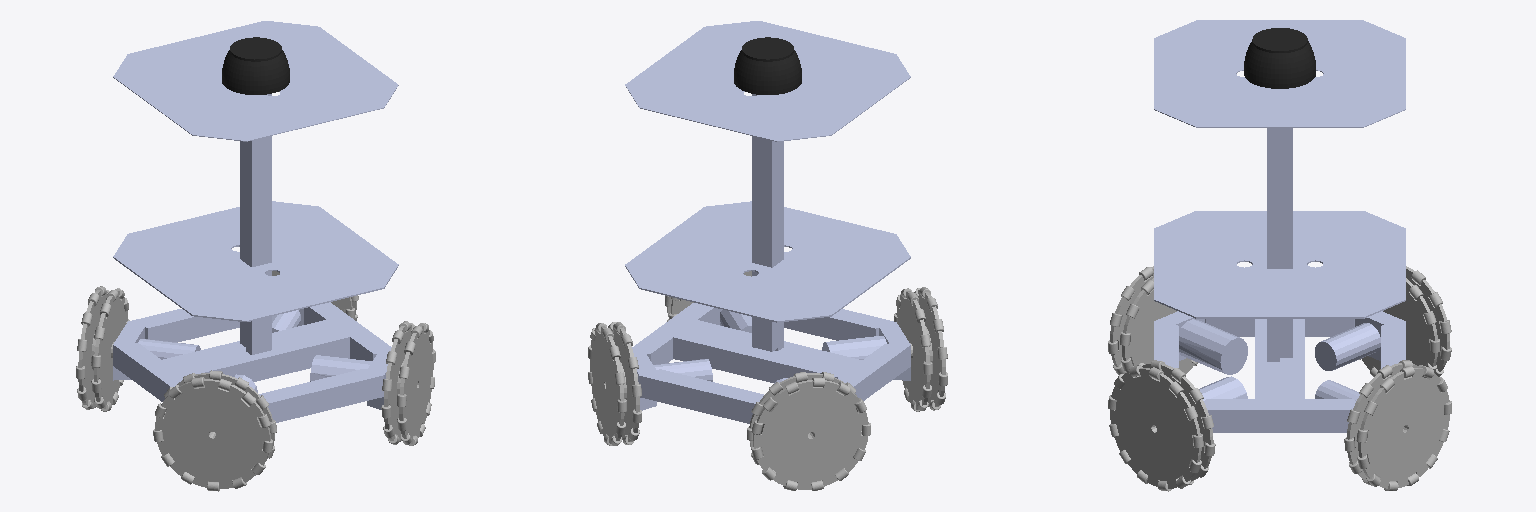
robot.urdf — URDF:

<!-- This URDF was automatically created by SolidWorks to URDF Exporter! Originally created by Stephen Brawner (brawner@gmail.com) 
     Commit Version: 1.6.0-4-g7f85cfe  Build Version: 1.6.7995.38578
     For more information, please see http://wiki.ros.org/sw_urdf_exporter -->
<robot
  name="URDF">
  <link
    name="base_link">
    <inertial>
      <origin
        xyz="-8.57191768954824E-10 -0.000317402351265947 0.00624310442116382"
        rpy="0 0 0" />
      <mass
        value="0.1" />
      <inertia
        ixx="3.21390607883172E-07"
        ixy="9.7836623014883E-15"
        ixz="-1.04072352403533E-14"
        iyy="4.23855792975122E-07"
        iyz="-5.87798168447698E-08"
        izz="2.61421342170984E-07" />
    </inertial>
    <visual>
      <origin
        xyz="0 0 0"
        rpy="0 0 0" />
      <geometry>
        <mesh
          filename="package://agv_sim/meshes/base_link.STL" />
      </geometry>
      <material
        name="">
        <color
          rgba="0.792156862745098 0.819607843137255 0.933333333333333 1" />
      </material>
    </visual>
    <collision>
      <origin
        xyz="0 0 0"
        rpy="0 0 0" />
      <geometry>
        <mesh
          filename="package://agv_sim/meshes/base_link.STL" />
      </geometry>
    </collision>
  </link>
  <link
    name="thanxe_Link">
    <inertial>
      <origin
        xyz="-1.34173948340699E-09 -0.00471160202617647 0.00913027489544721"
        rpy="0 0 0" />
      <mass
        value="0.05" />
      <inertia
        ixx="2.9987700128236E-07"
        ixy="9.78366230720851E-15"
        ixz="-1.04072352312484E-14"
        iyy="3.43993310638055E-07"
        iyz="-5.95274971269669E-08"
        izz="1.62203888631105E-07" />
    </inertial>
    <visual>
      <origin
        xyz="0 0 0"
        rpy="0 0 0" />
      <geometry>
        <mesh
          filename="package://agv_sim/meshes/thanxe_Link.STL" />
      </geometry>
      <material
        name="">
        <color
          rgba="0.792156862745098 0.819607843137255 0.933333333333333 1" />
      </material>
    </visual>
    <collision>
      <origin
        xyz="0 0 0"
        rpy="0 0 0" />
      <geometry>
        <mesh
          filename="package://agv_sim/meshes/thanxe_Link.STL" />
      </geometry>
    </collision>
  </link>
  <joint
    name="thanxe_joint"
    type="fixed">
    <origin
      xyz="0 0 0"
      rpy="0 0 0" />
    <parent
      link="base_link" />
    <child
      link="thanxe_Link" />
    <axis
      xyz="0 0 0" />
  </joint>
  <link
    name="dexe_Link">
    <inertial>
      <origin
        xyz="-6.93889390390723E-18 0.00745618052720307 0.00113553976172041"
        rpy="0 0 0" />
      <mass
        value="0.03" />
      <inertia
        ixx="2.15136066008119E-08"
        ixy="-4.9436306316123E-25"
        ixz="4.83483938759972E-25"
        iyy="7.98624823370676E-08"
        iyz="7.47680282197207E-10"
        izz="9.92174535398787E-08" />
    </inertial>
    <visual>
      <origin
        xyz="0 0 0"
        rpy="0 0 0" />
      <geometry>
        <mesh
          filename="package://agv_sim/meshes/dexe_Link.STL" />
      </geometry>
      <material
        name="">
        <color
          rgba="0.792156862745098 0.819607843137255 0.933333333333333 1" />
      </material>
    </visual>
    <collision>
      <origin
        xyz="0 0 0"
        rpy="0 0 0" />
      <geometry>
        <mesh
          filename="package://agv_sim/meshes/dexe_Link.STL" />
      </geometry>
    </collision>
  </link>
  <joint
    name="dexe_joint"
    type="fixed">
    <origin
      xyz="0 0 0"
      rpy="0 0 0" />
    <parent
      link="base_link" />
    <child
      link="dexe_Link" />
    <axis
      xyz="0 0 0" />
  </joint>
  <link
    name="banhxe1_Link">
    <inertial>
      <origin
        xyz="0.000871932450713722 -0.000871932450713681 6.93889390390723E-18"
        rpy="0 0 0" />
      <mass
        value="0.000243965830582787" />
      <inertia
        ixx="3.30833181677862E-09"
        ixy="-9.82694901086297E-10"
        ixz="-1.50741852656873E-25"
        iyy="3.30833181677862E-09"
        iyz="2.4548909608371E-24"
        izz="2.32563691569232E-09" />
    </inertial>
    <visual>
      <origin
        xyz="0 0 0"
        rpy="0 0 0" />
      <geometry>
        <mesh
          filename="package://agv_sim/meshes/banhxe1_Link.STL" />
      </geometry>
      <material
        name="">
        <color
          rgba="0.752941176470588 0.752941176470588 0.752941176470588 1" />
      </material>
    </visual>
    <collision>
      <origin
        xyz="0 0 0"
        rpy="0 0 0" />
      <geometry>
        <mesh
          filename="package://agv_sim/meshes/banhxe1_Link.STL" />
      </geometry>
    </collision>
  </link>
  <joint
    name="banhxe1_joint"
    type="continuous">
    <origin
      xyz="0.0132071067811865 -0.0132071067811866 0.00049999999999998"
      rpy="0 0 0" />
    <parent
      link="base_link" />
    <child
      link="banhxe1_Link" />
    <axis
      xyz="0.707106781186548 -0.707106781186547 0" />
  </joint>
  <link
    name="banhxe2_Link">
    <inertial>
      <origin
        xyz="-0.000895834502252661 -0.000895834502252687 -3.46944695195361E-17"
        rpy="0 0 0" />
      <mass
        value="0.000243965830582788" />
      <inertia
        ixx="3.30833181677862E-09"
        ixy="9.82694901086296E-10"
        ixz="9.96137263511454E-25"
        iyy="3.30833181677861E-09"
        iyz="-7.86518777193411E-25"
        izz="2.32563691569232E-09" />
    </inertial>
    <visual>
      <origin
        xyz="0 0 0"
        rpy="0 0 0" />
      <geometry>
        <mesh
          filename="package://agv_sim/meshes/banhxe2_Link.STL" />
      </geometry>
      <material
        name="">
        <color
          rgba="0.752941176470588 0.752941176470588 0.752941176470588 1" />
      </material>
    </visual>
    <collision>
      <origin
        xyz="0 0 0"
        rpy="0 0 0" />
      <geometry>
        <mesh
          filename="package://agv_sim/meshes/banhxe2_Link.STL" />
      </geometry>
    </collision>
  </link>
  <joint
    name="banhxe2_joint"
    type="continuous">
    <origin
      xyz="0.0149748737341529 0.0149748737341529 0.000500000000000021"
      rpy="0 0 0" />
    <parent
      link="base_link" />
    <child
      link="banhxe2_Link" />
    <axis
      xyz="0.707106781186546 0.707106781186549 0" />
  </joint>
  <link
    name="banhxe3_Link">
    <inertial>
      <origin
        xyz="0.000895834502252606 0.00089583450225272 -4.16333634234434E-17"
        rpy="0 0 0" />
      <mass
        value="0.000243965830582787" />
      <inertia
        ixx="3.30833181677861E-09"
        ixy="9.82694901086296E-10"
        ixz="-4.28868964288834E-25"
        iyy="3.30833181677862E-09"
        iyz="3.86888942356593E-25"
        izz="2.32563691569232E-09" />
    </inertial>
    <visual>
      <origin
        xyz="0 0 0"
        rpy="0 0 0" />
      <geometry>
        <mesh
          filename="package://agv_sim/meshes/banhxe3_Link.STL" />
      </geometry>
      <material
        name="">
        <color
          rgba="0.752941176470588 0.752941176470588 0.752941176470588 1" />
      </material>
    </visual>
    <collision>
      <origin
        xyz="0 0 0"
        rpy="0 0 0" />
      <geometry>
        <mesh
          filename="package://agv_sim/meshes/banhxe3_Link.STL" />
      </geometry>
    </collision>
  </link>
  <joint
    name="banhxe3_joint"
    type="continuous">
    <origin
      xyz="-0.0149748737341529 -0.0149748737341529 0.000500000000000035"
      rpy="0 0 0" />
    <parent
      link="base_link" />
    <child
      link="banhxe3_Link" />
    <axis
      xyz="0.707106781186547 0.707106781186548 0" />
  </joint>
  <link
    name="banhxe4_Link">
    <inertial>
      <origin
        xyz="0.000895834502252592 -0.000895834502252731 -7.63278329429795E-17"
        rpy="0 0 0" />
      <mass
        value="0.000243965830582787" />
      <inertia
        ixx="3.30833181677861E-09"
        ixy="-9.82694901086294E-10"
        ixz="-7.03610284915588E-25"
        iyy="3.30833181677862E-09"
        iyz="3.41505774479228E-24"
        izz="2.32563691569232E-09" />
    </inertial>
    <visual>
      <origin
        xyz="0 0 0"
        rpy="0 0 0" />
      <geometry>
        <mesh
          filename="package://agv_sim/meshes/banhxe4_Link.STL" />
      </geometry>
      <material
        name="">
        <color
          rgba="0.752941176470588 0.752941176470588 0.752941176470588 1" />
      </material>
    </visual>
    <collision>
      <origin
        xyz="0 0 0"
        rpy="0 0 0" />
      <geometry>
        <mesh
          filename="package://agv_sim/meshes/banhxe4_Link.STL" />
      </geometry>
    </collision>
  </link>
  <joint
    name="banhxe4_joint"
    type="continuous">
    <origin
      xyz="-0.0149748737341529 0.014974873734153 0.000500000000000084"
      rpy="0 0 0" />
    <parent
      link="base_link" />
    <child
      link="banhxe4_Link" />
    <axis
      xyz="-0.707106781186547 0.707106781186548 0" />
  </joint>
  <link
    name="lidar_link">
    <inertial>
      <origin
        xyz="0 0 0"
        rpy="0 0 0" />
      <mass
        value="0.001" />
      <inertia
        ixx="1E-08"
        ixy="0"
        ixz="0"
        iyy="1E-08"
        iyz="0"
        izz="1E-08" />
    </inertial>
    <visual>
      <origin
        xyz="0 0 0"
        rpy="0 0 0" />
      <geometry>
        <mesh
          filename="package://agv_sim/meshes/lidartruocl.STL" scale="0.1 0.1 0.1" />
      </geometry>
      <material
        name="">
        <color
          rgba="0.2 0.2 0.2 1" />
      </material>
    </visual>
    <collision>
      <origin
        xyz="0 0 0"
        rpy="0 0 0" />
      <geometry>
        <mesh
          filename="package://agv_sim/meshes/lidartruocl.STL" scale="0.1 0.1 0.1" />
      </geometry>
    </collision>
  </link>
  <joint
    name="lidar_joint"
    type="fixed">
    <origin
      xyz="0 0 0.0402"
      rpy="0 0 0" />
    <parent
      link="base_link" />
    <child
      link="lidar_link" />
    <axis
      xyz="0 0 1" />
  </joint>
  <gazebo reference="lidar_link">
    <sensor type="ray" name="lidar_sensor">
      <pose>0 0 0 0 0 0</pose>
      <visualize>true</visualize>
      <update_rate>10</update_rate>
      <ray>
        <scan>
          <horizontal>
            <samples>360</samples>
            <resolution>1</resolution>
            <min_angle>-3.14159</min_angle>
            <max_angle>3.14159</max_angle>
          </horizontal>
        </scan>
        <range>
          <min>0.05</min>
          <max>1.5</max>
          <resolution>0.01</resolution>
        </range>
        <noise>
          <type>gaussian</type>
          <mean>0.0</mean>
          <stddev>0.01</stddev>
        </noise>
      </ray>
      <plugin name="gazebo_ros_ray_sensor" filename="libgazebo_ros_ray_sensor.so">
        <ros>
          <remapping>~/out:=scan</remapping>
        </ros>
        <output_type>sensor_msgs/LaserScan</output_type>
        <frame_name>lidar_link</frame_name>
      </plugin>
    </sensor>
  </gazebo>
  <gazebo>
    <plugin name="gazebo_ros_planar_move" filename="libgazebo_ros_planar_move.so">
      <ros>
        <remapping>cmd_vel:=cmd_vel</remapping>
        <remapping>odom:=odom</remapping>
      </ros>
      <update_rate>100.0</update_rate>
      <publish_rate>10.0</publish_rate>
      <publish_odom>true</publish_odom>
      <publish_odom_tf>true</publish_odom_tf>
      <odometry_frame>odom</odometry_frame>
      <robot_base_frame>base_link</robot_base_frame>
      <covariance_x>0.0001</covariance_x>
      <covariance_y>0.0001</covariance_y>
      <covariance_yaw>0.01</covariance_yaw>
    </plugin>
    <plugin name="gazebo_ros_joint_state_publisher" filename="libgazebo_ros_joint_state_publisher.so">
      <ros>
        <remapping>joint_states:=joint_states</remapping>
      </ros>
      <update_rate>30</update_rate>
      <joint_name>banhxe1_joint</joint_name>
      <joint_name>banhxe2_joint</joint_name>
      <joint_name>banhxe3_joint</joint_name>
      <joint_name>banhxe4_joint</joint_name>
    </plugin>
  </gazebo>
  
  <gazebo reference="base_link">
    <material>Gazebo/White</material>
  </gazebo>
  <gazebo reference="thanxe_Link">
    <material>Gazebo/Orange</material>
  </gazebo>
  <gazebo reference="dexe_Link">
    <material>Gazebo/SkyBlue</material>
  </gazebo>
  <gazebo reference="banhxe1_Link">
    <material>Gazebo/Grey</material>
    <mu1>0.0</mu1>
    <mu2>0.0</mu2>
  </gazebo>
  <gazebo reference="banhxe2_Link">
    <material>Gazebo/Grey</material>
    <mu1>0.0</mu1>
    <mu2>0.0</mu2>
  </gazebo>
  <gazebo reference="banhxe3_Link">
    <material>Gazebo/Grey</material>
    <mu1>0.0</mu1>
    <mu2>0.0</mu2>
  </gazebo>
  <gazebo reference="banhxe4_Link">
    <material>Gazebo/Grey</material>
    <mu1>0.0</mu1>
    <mu2>0.0</mu2>
  </gazebo>
  <gazebo reference="lidar_link">
    <material>Gazebo/Red</material>
  </gazebo>
</robot>

--- Render facts (derived) ---
3 views of the same robot in one strip: view 1: azimuth 30°, elevation 25°; view 2: azimuth 150°, elevation 25°; view 3: azimuth 270°, elevation 25° (orthographic).
Model URDF with 8 links and 7 joints (4 continuous, 3 fixed), rooted at base_link, posed every joint at zero.
Visible links, largest first — view 1: base_link, banhxe3_Link, banhxe1_Link, banhxe4_Link, lidar_link; view 2: base_link, banhxe4_Link, banhxe2_Link, banhxe3_Link, lidar_link; view 3: base_link, banhxe1_Link, banhxe2_Link, banhxe4_Link, banhxe3_Link, lidar_link.
Boxes of the visible links, x1,y1,x2,y2 form: base_link: (113, 21, 398, 422); banhxe3_Link: (153, 370, 276, 491); banhxe1_Link: (381, 321, 435, 445); banhxe4_Link: (76, 286, 129, 411); lidar_link: (222, 37, 289, 94); base_link: (625, 21, 910, 423); banhxe4_Link: (747, 372, 870, 490); banhxe2_Link: (588, 322, 641, 445); banhxe3_Link: (894, 287, 947, 411); lidar_link: (734, 37, 801, 94); base_link: (1154, 20, 1405, 432); banhxe1_Link: (1108, 360, 1215, 491); banhxe2_Link: (1344, 360, 1451, 490); banhxe4_Link: (1359, 266, 1451, 376); banhxe3_Link: (1108, 266, 1197, 375); lidar_link: (1244, 28, 1315, 88).
Bounding box of the posed robot: 0.041 × 0.041 × 0.052 m (x, y, z).
8 mesh visuals loaded from 8 distinct referenced files (8 binary STL).
